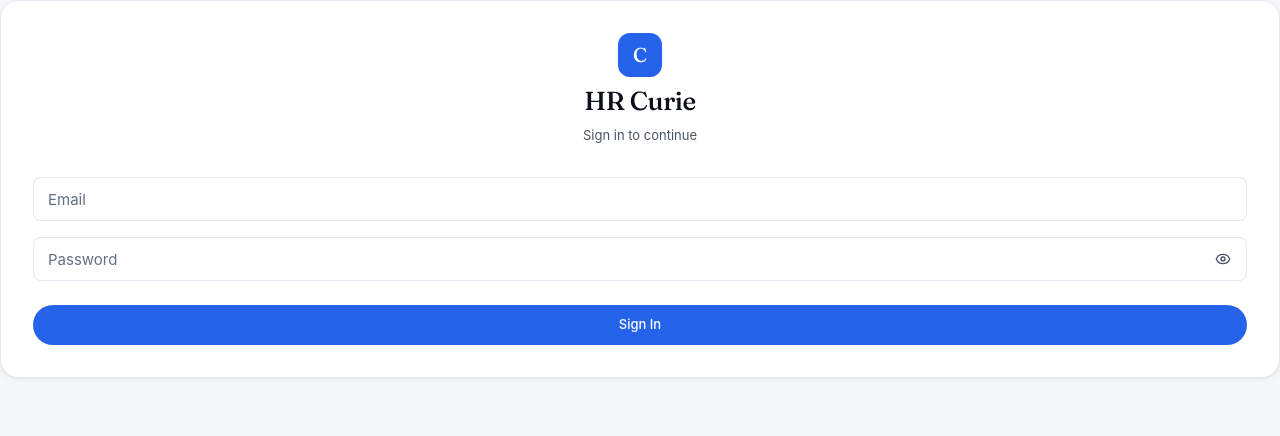
Test case: LoginForm › error display › shows the lockout message and skips sign-in when rate limited
The image size is (1280, 436).
Type "sofia@company.com" into the field with placeholder "Email". click: (640, 199)
box: [33, 177, 1247, 221]
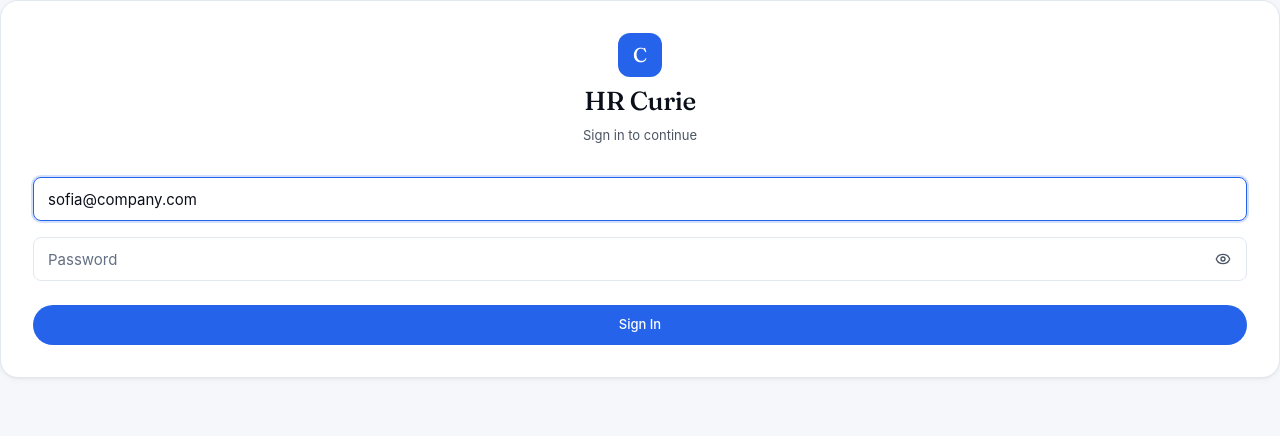
Type "password123" into the password field with placeholder "Password". click: (640, 259)
box: [33, 237, 1247, 281]
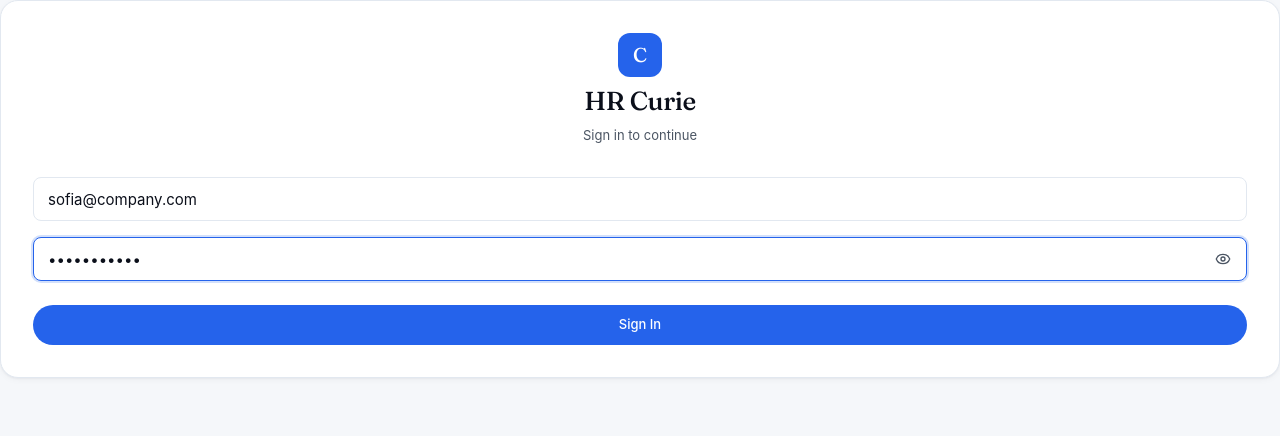
Click the button "Sign In". click: (640, 325)
box: [33, 305, 1247, 345]
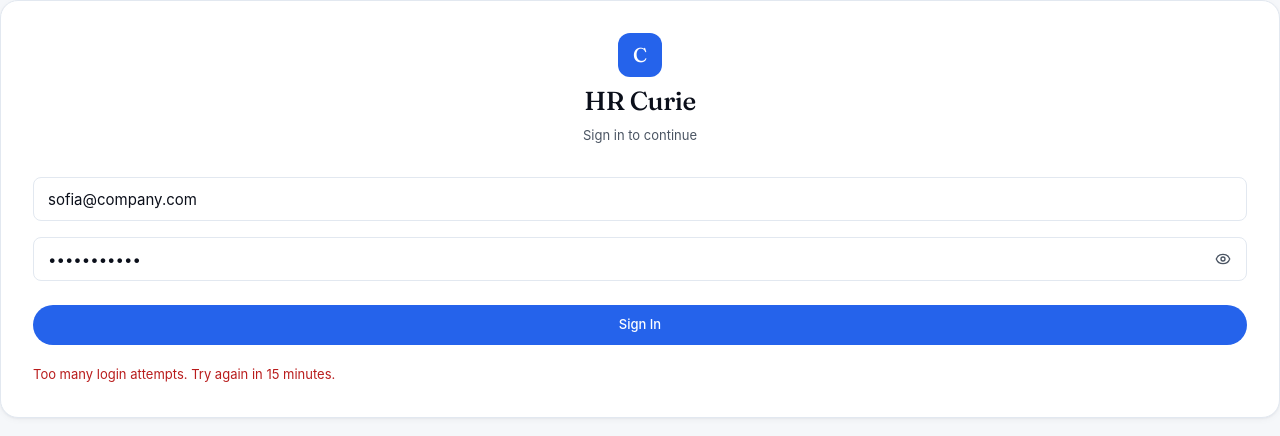
Expected: the text "Too many login attempts. Try again in 15 minutes." is shown, [33, 366, 335, 382]
